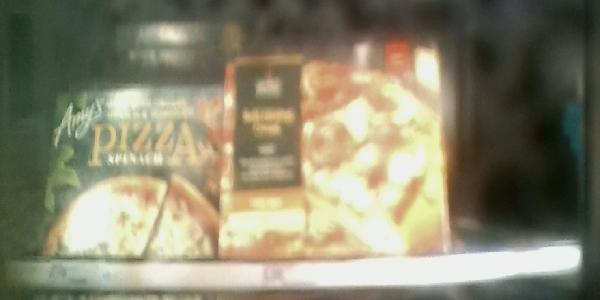pizza1: (221, 44, 448, 266), (45, 84, 221, 255)
pizza2: (114, 18, 236, 50), (107, 51, 219, 84)
